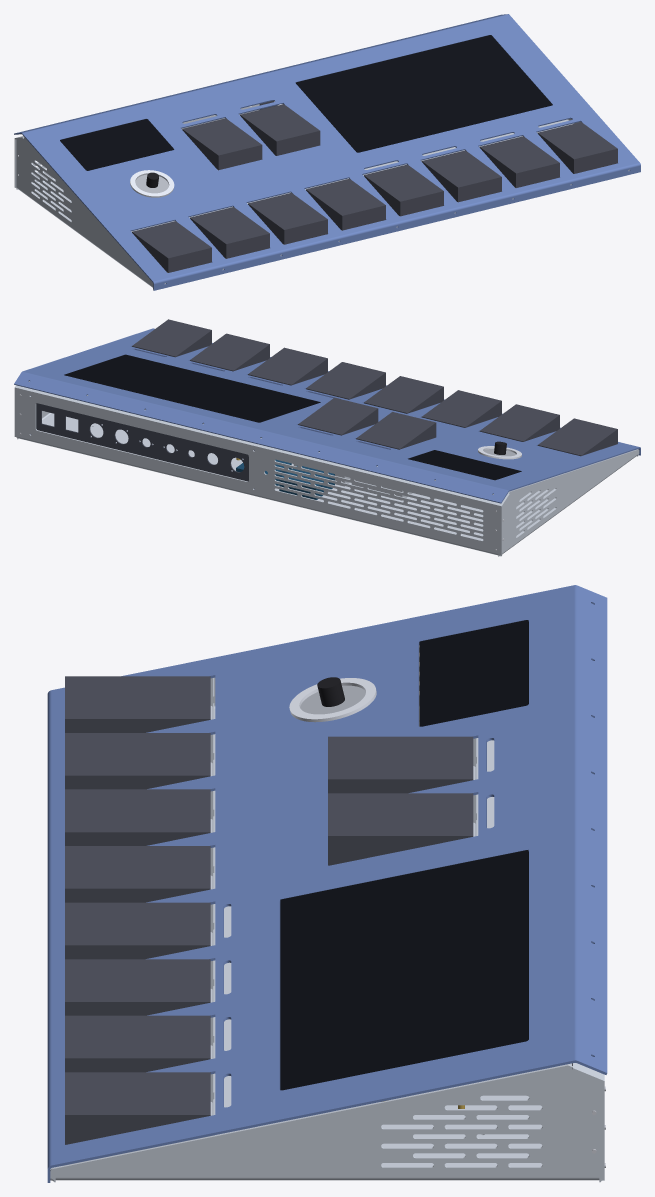
File: segno_fromdxf.glb
3 renders of one model, top to bottom at view 1: azimuth 30°, elevation 25°; view 2: azimuth 150°, elevation 25°; view 3: azimuth 270°, elevation 25°, orthographic. The views are drawn at different scales.
Visible parts, largest first — view 1: lid, lid_screen16, base, lid_screen7, pedal8, pedal9, pedal5, pedal4, pedal6, pedal7, pedal0, pedal1 (+3 smaller); view 2: base, lid, lid_screen16, rearpanel, pedal9, pedal8, pedal2, pedal0, pedal4, pedal7, pedal1, pedal6 (+4 smaller); view 3: lid, lid_screen16, base, lid_screen7, pedal7, pedal9, pedal6, pedal8, pedal4, pedal2, pedal0, pedal5 (+4 smaller).
Boxes of the visible parts, bbox=[...] form: lid: bbox=[14, 14, 640, 290]; lid_screen16: bbox=[295, 35, 552, 152]; base: bbox=[14, 104, 629, 288]; lid_screen7: bbox=[60, 119, 173, 170]; pedal8: bbox=[182, 118, 262, 170]; pedal9: bbox=[240, 104, 320, 155]; pedal5: bbox=[421, 150, 501, 202]; pedal4: bbox=[364, 164, 443, 216]; pedal6: bbox=[479, 136, 559, 187]; pedal7: bbox=[537, 122, 617, 173]; pedal0: bbox=[132, 221, 211, 272]; pedal1: bbox=[190, 207, 269, 258]; base: bbox=[14, 381, 639, 556]; lid: bbox=[14, 328, 640, 503]; lid_screen16: bbox=[64, 354, 320, 422]; rearpanel: bbox=[30, 395, 254, 489]; pedal9: bbox=[298, 397, 378, 435]; pedal8: bbox=[356, 412, 436, 449]; pedal2: bbox=[421, 390, 501, 427]; pedal0: bbox=[537, 418, 617, 456]; pedal4: bbox=[306, 362, 385, 399]; pedal7: bbox=[132, 319, 211, 357]; pedal1: bbox=[479, 404, 559, 441]; pedal6: bbox=[190, 333, 269, 371]; lid: bbox=[47, 585, 607, 1182]; lid_screen16: bbox=[280, 850, 528, 1090]; base: bbox=[50, 647, 604, 1182]; lid_screen7: bbox=[419, 620, 528, 726]; pedal7: bbox=[65, 1072, 210, 1144]; pedal9: bbox=[328, 793, 473, 865]; pedal6: bbox=[65, 1015, 210, 1072]; pedal8: bbox=[328, 736, 473, 793]; pedal4: bbox=[65, 902, 210, 959]; pedal2: bbox=[65, 789, 210, 845]; pedal0: bbox=[65, 676, 210, 732]; pedal5: bbox=[65, 959, 210, 1015].
Size of the model in its own units: 850 by 102 by 423.
